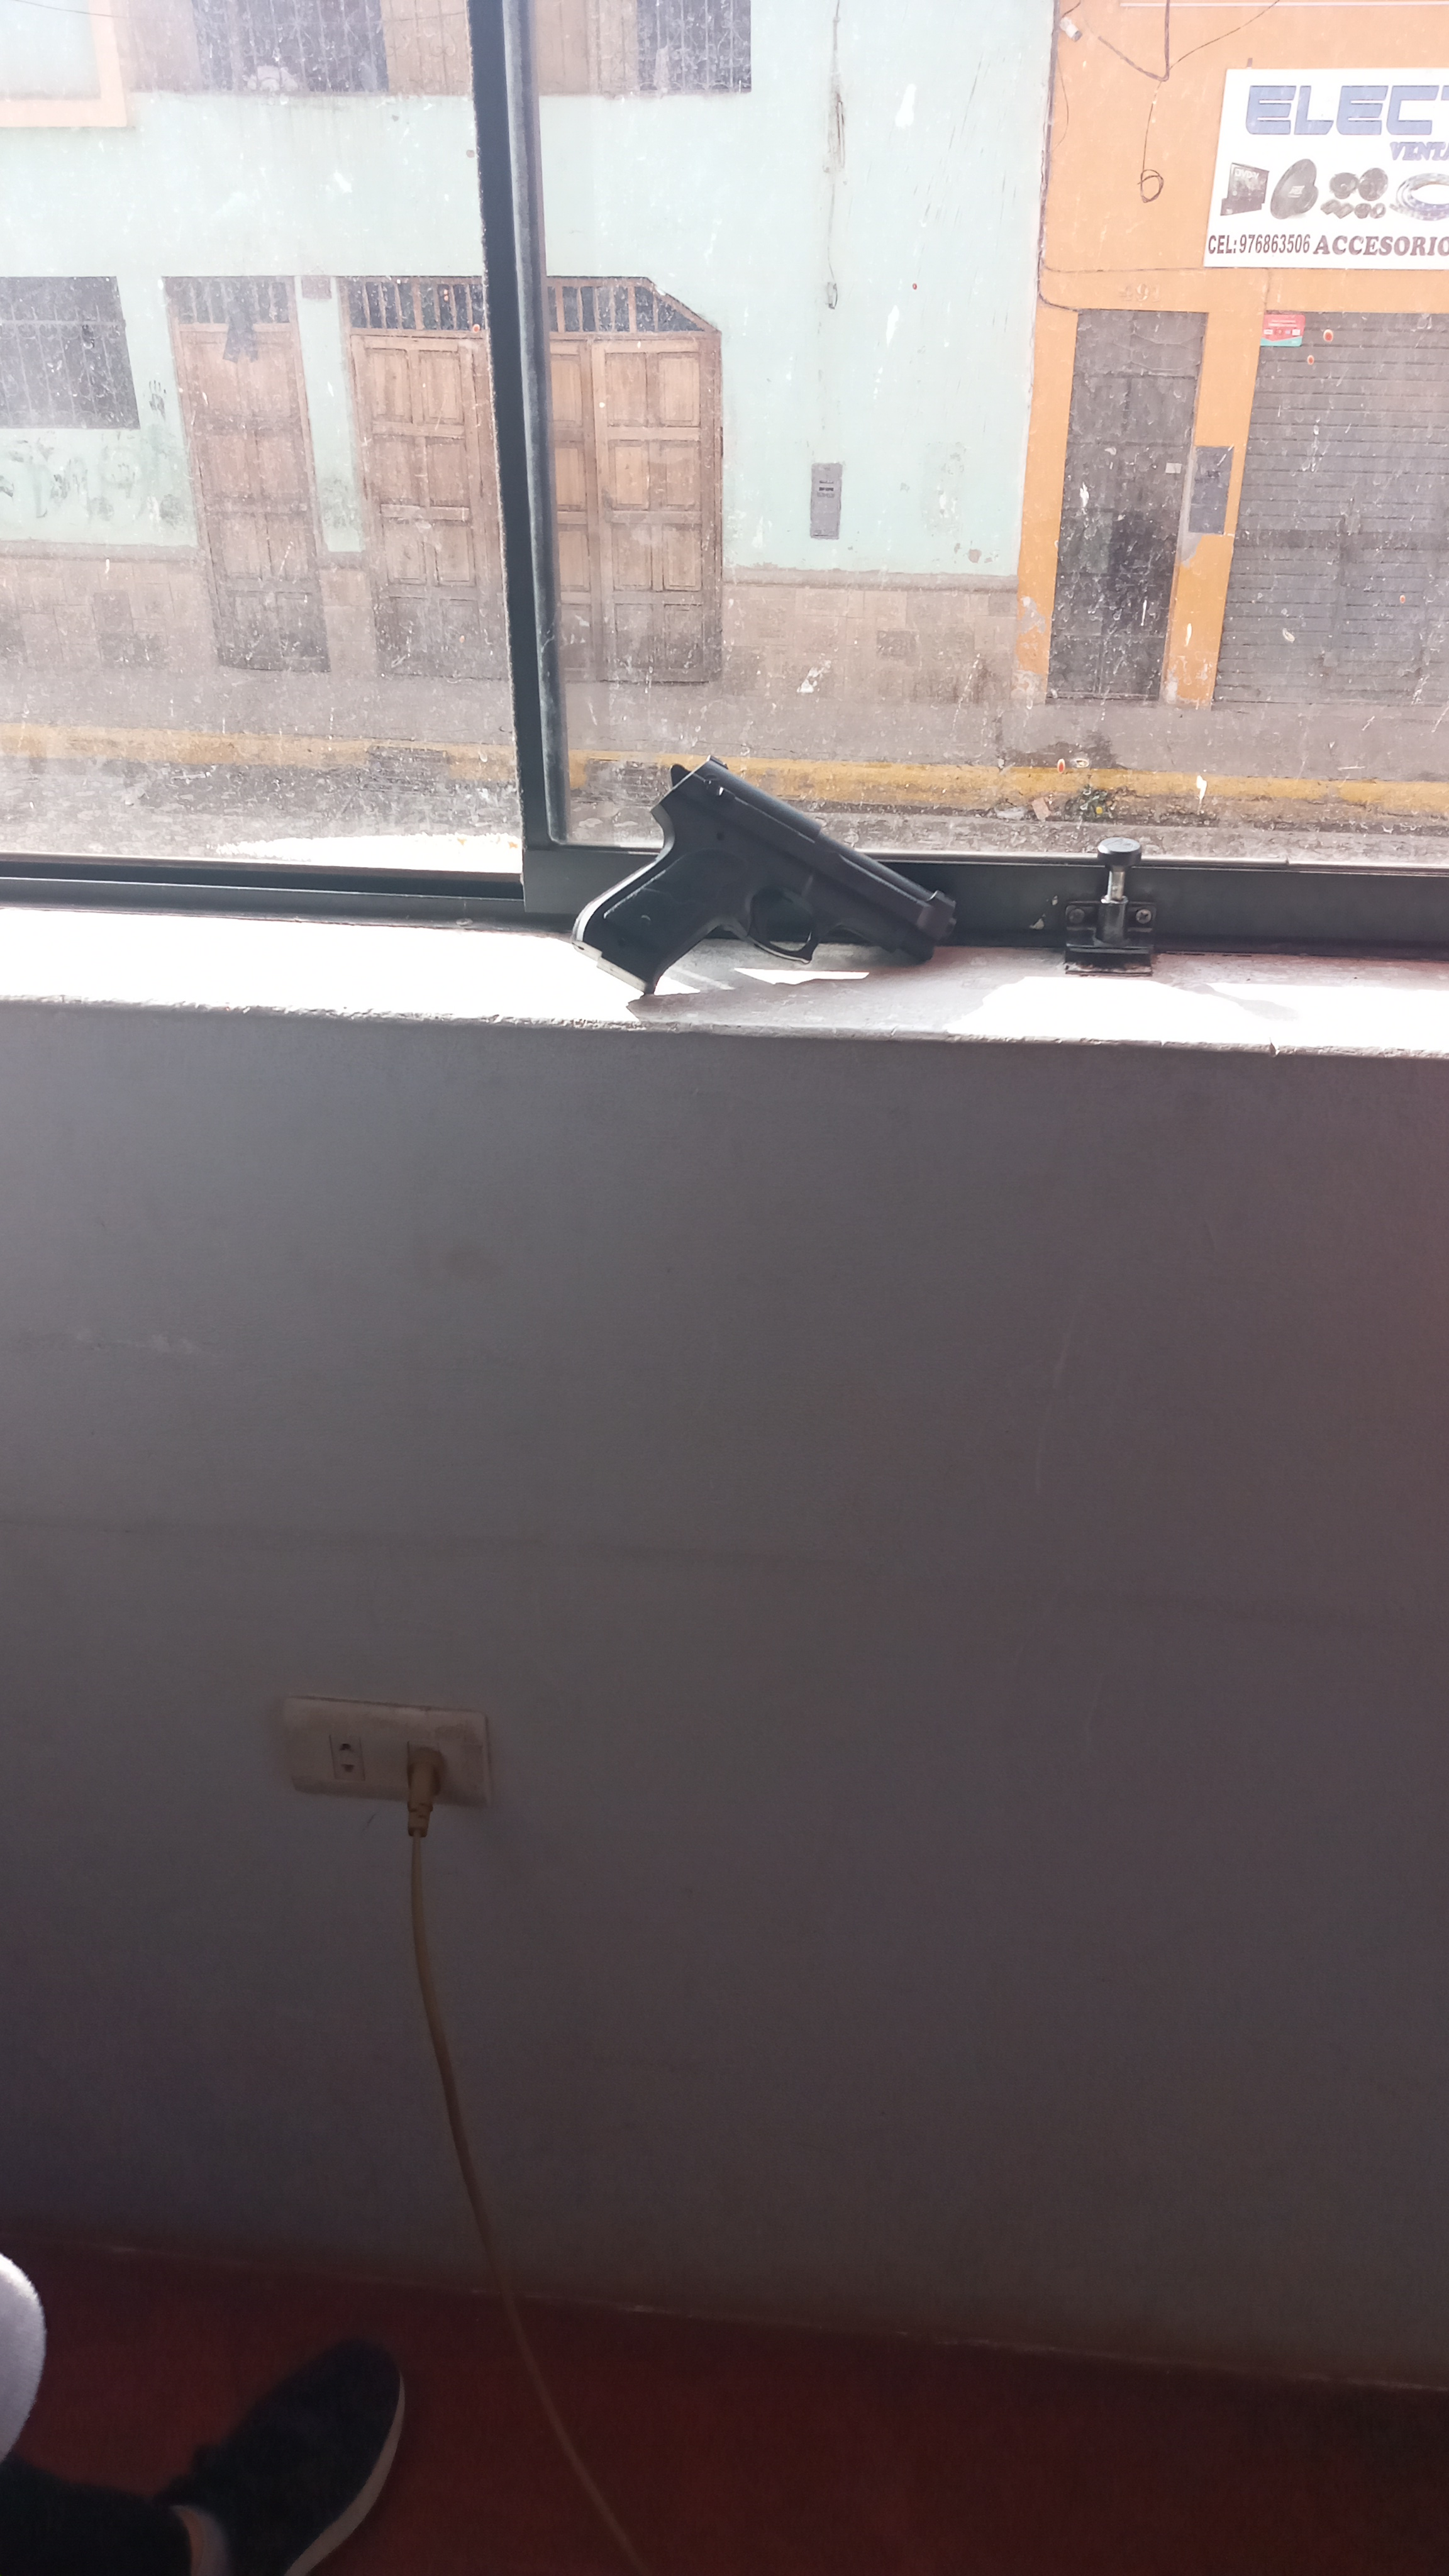Arma: (619, 777, 892, 962)
